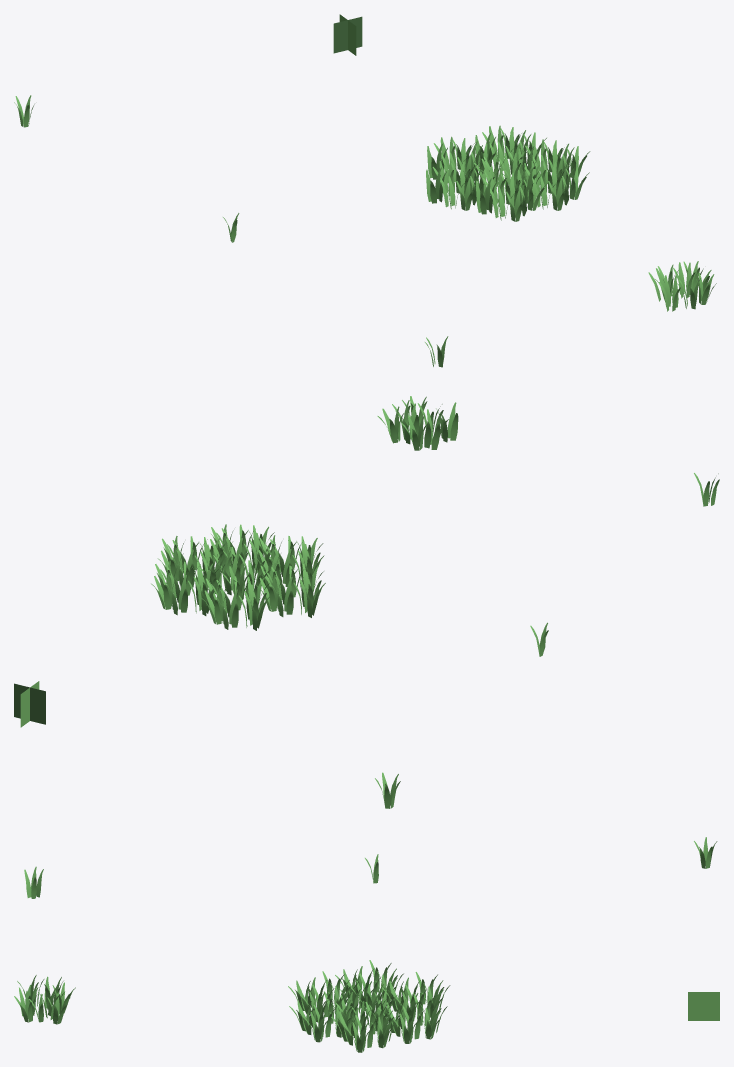
File: GrassPack.fbx
3 views of the same model, one above another, from view 1: azimuth 30°, elevation 25°; view 2: azimuth 150°, elevation 25°; view 3: azimuth 270°, elevation 25° (orthographic). The views are drawn at different scales.
Visible parts, largest first — view 1: Plane.013, Plane.006, Plane.005; view 2: Plane.013, Plane.006, Plane.005; view 3: Plane.013, Plane.006, Plane.005, Plane.011.
Boxes of the visible parts, x1=… form: Plane.013: x1=426, y1=125, x2=590, y2=221; Plane.006: x1=648, y1=261, x2=716, y2=311; Plane.005: x1=333, y1=14, x2=362, y2=55; Plane.013: x1=151, y1=524, x2=325, y2=630; Plane.006: x1=377, y1=396, x2=458, y2=450; Plane.005: x1=14, y1=681, x2=45, y2=727; Plane.013: x1=288, y1=960, x2=450, y2=1052; Plane.006: x1=14, y1=975, x2=75, y2=1024; Plane.005: x1=688, y1=992, x2=719, y2=1020; Plane.011: x1=24, y1=866, x2=43, y2=898.
Bounding box in the file's own units: 529 × 52.85 × 850.
